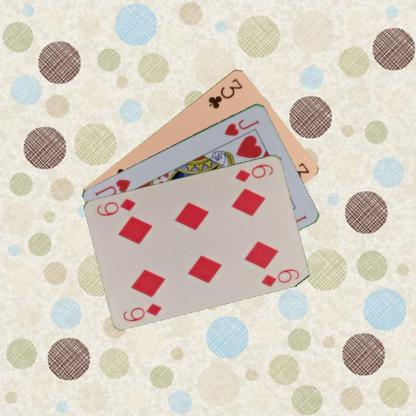3c: (206, 76, 244, 110)
6d: (120, 300, 164, 322), (233, 161, 275, 183)
Jh: (221, 116, 261, 138)
